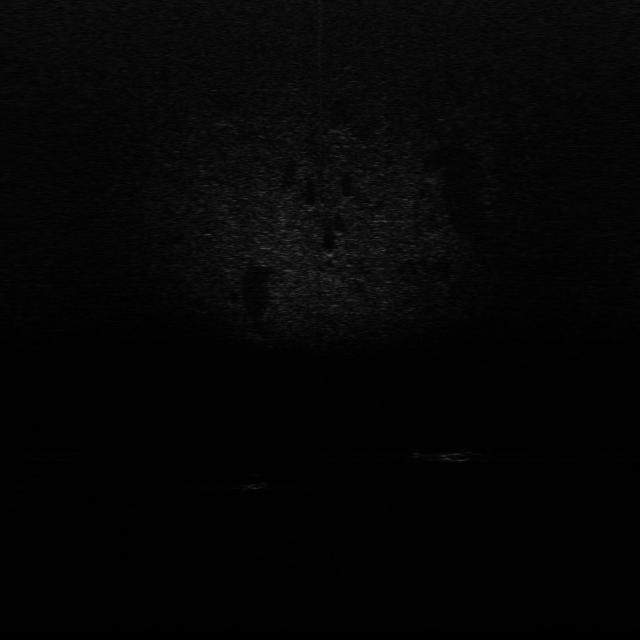ball: (232, 468, 272, 494)
human body: (414, 442, 492, 467)
